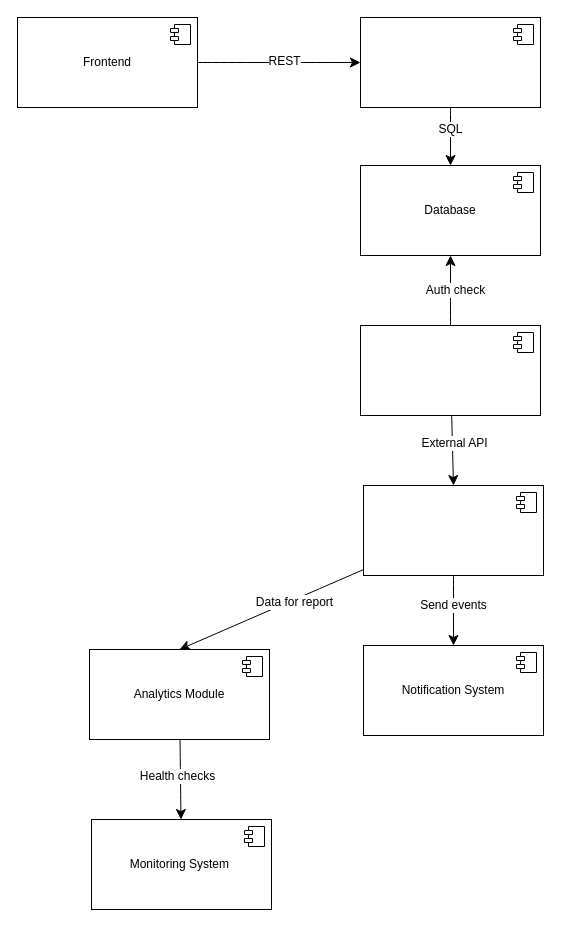
Some shapes in this 561 by 927 pixel diagram are drawn without their labels. The shapes that lost their labels are listed below. From the top down, each one's centre as x and y in pixels, then its label:
At [450,62]: "Backend".
At [450,370]: "Authorization System".
At [453,530]: "Payment Gateway".
